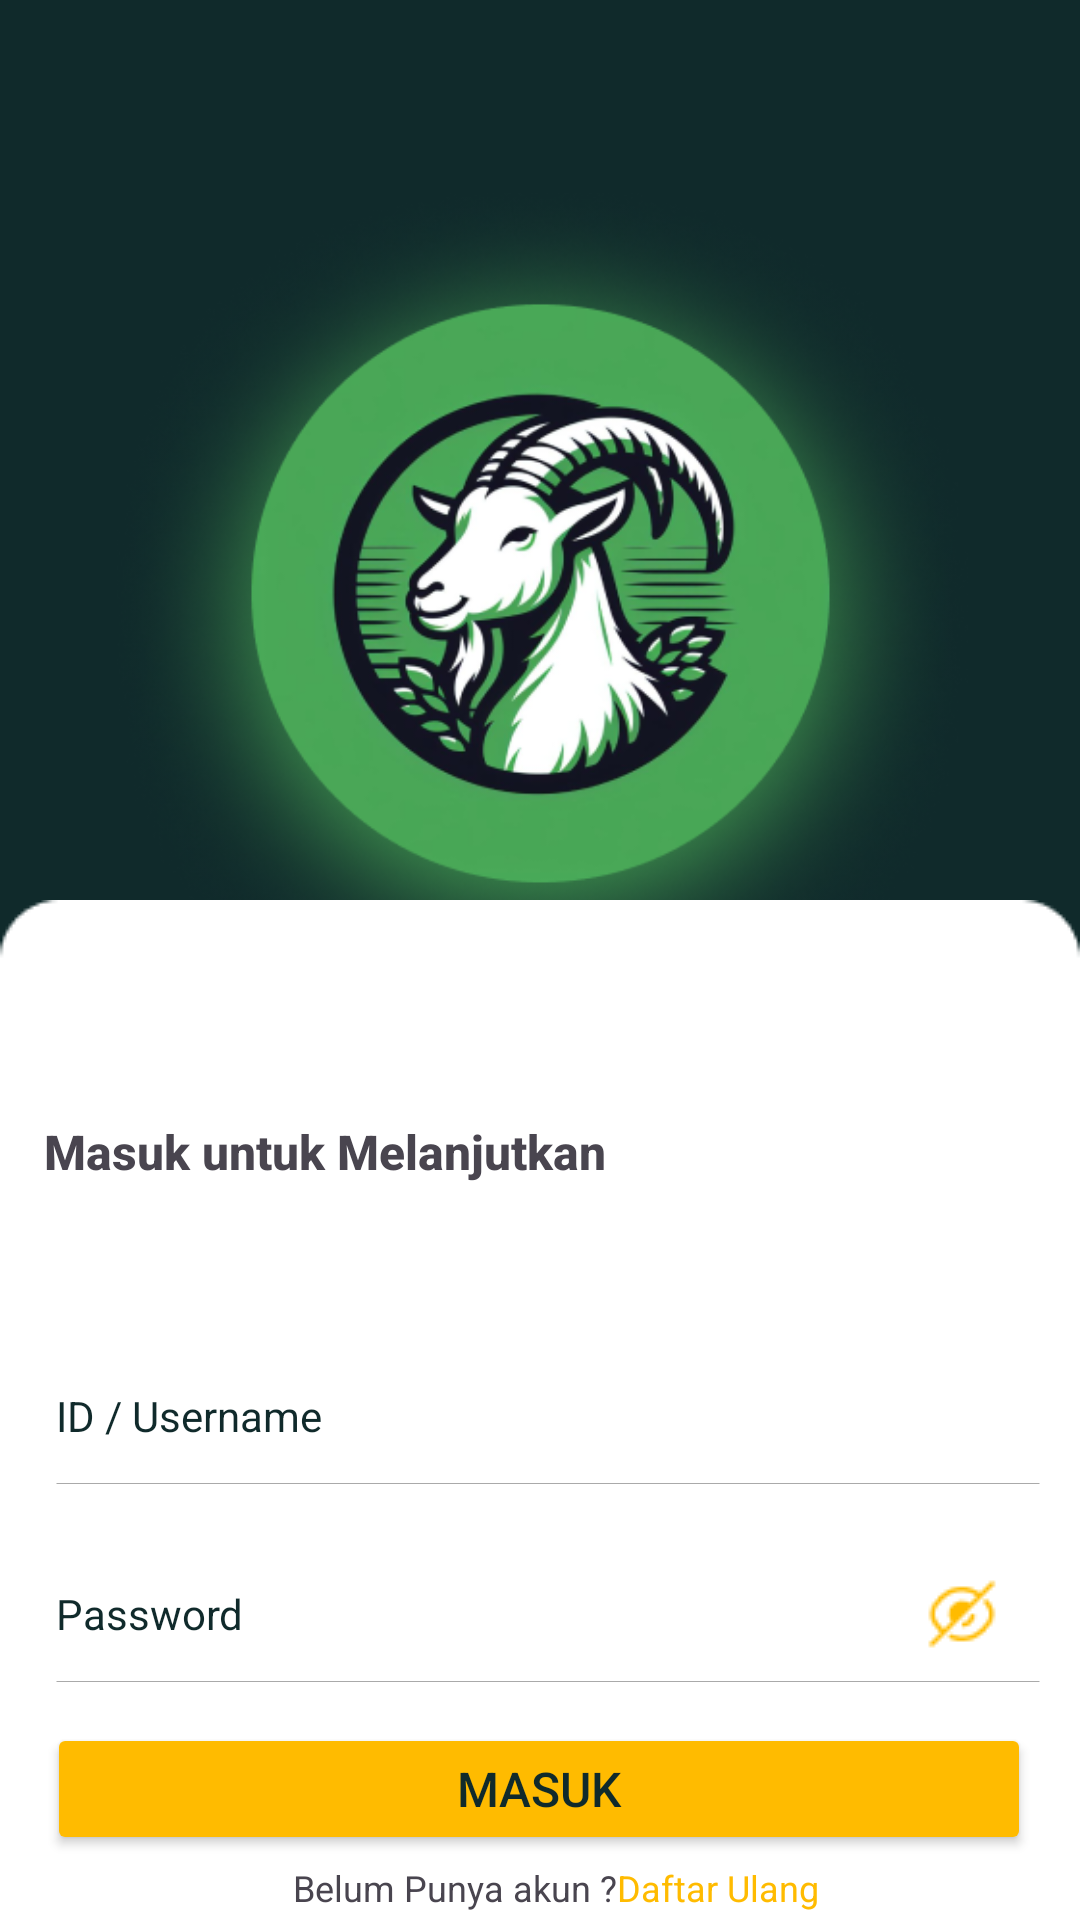

Icons on this 1080x1920 Android screen, each with the point to tap as point (x, y):
eye closed: point (962, 1614)
